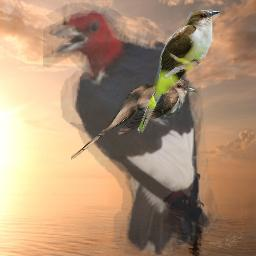Cuckoo: (71, 78, 198, 160), (137, 9, 220, 133)
Woodpecker: (43, 0, 223, 255)
